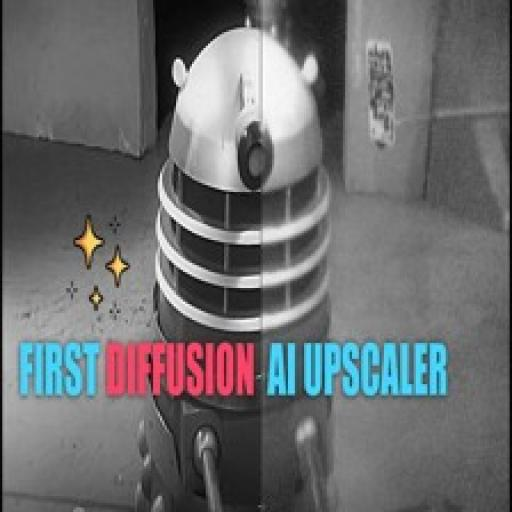dalek: (119, 22, 344, 512)
